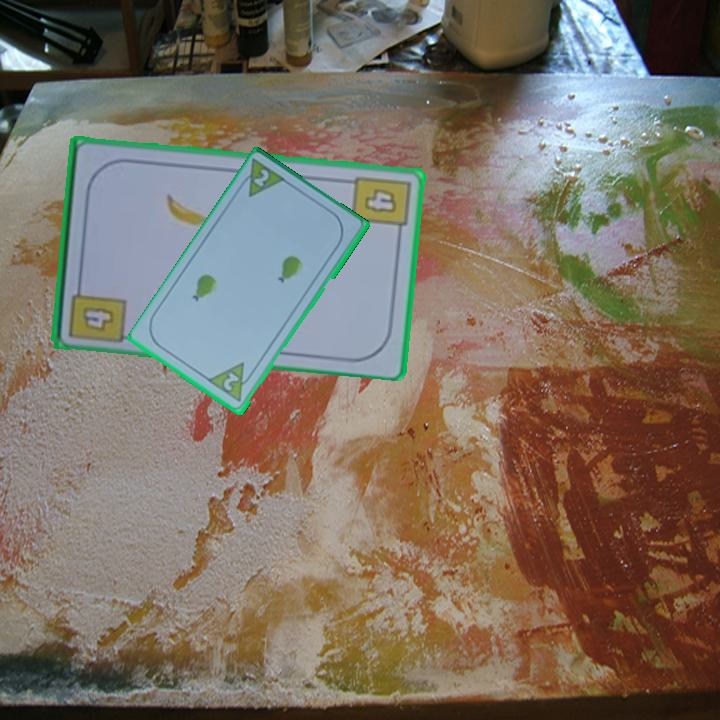2p: (220, 369, 242, 394), (250, 166, 272, 190)
4b: (65, 276, 129, 346), (348, 172, 413, 240)
